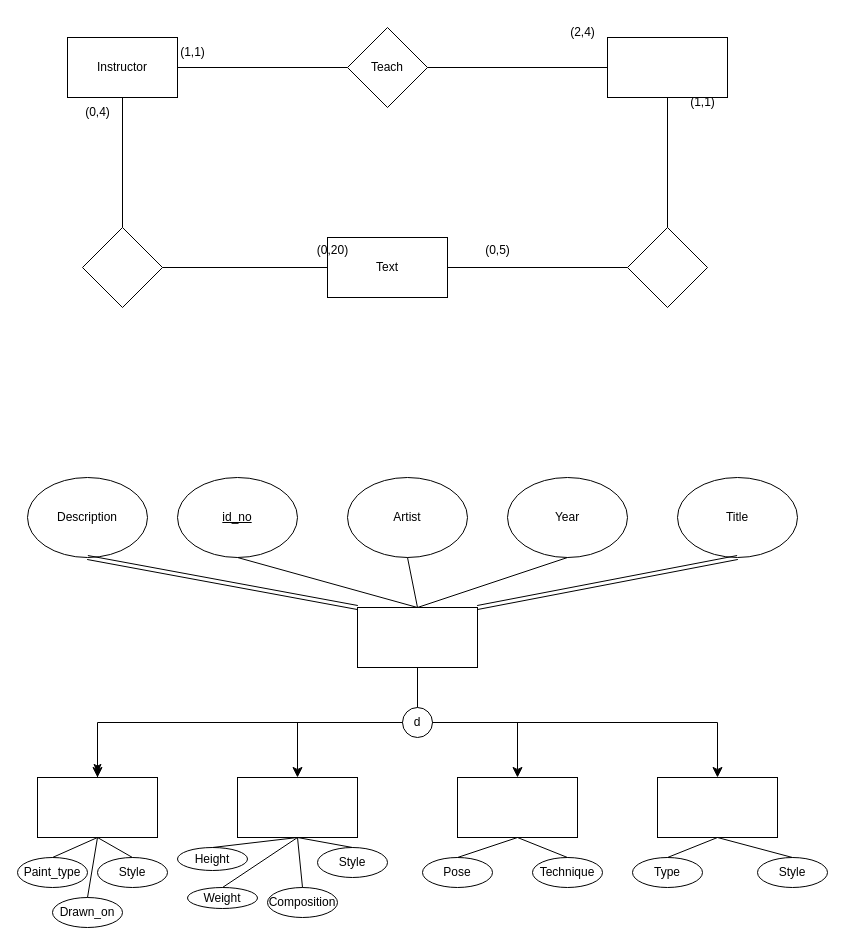
This 845x945 diagram has some shape labels left out. The centre of each missing label's shape, as x and y in pixels:
Adopt: (x=667, y=267)
ART OBJECTS: (x=417, y=637)
Course: (x=667, y=67)
OTHER: (x=717, y=807)
PAINTING: (x=97, y=807)
SCULPTURE: (x=297, y=807)
STATUE: (x=517, y=807)
Use: (x=122, y=267)
